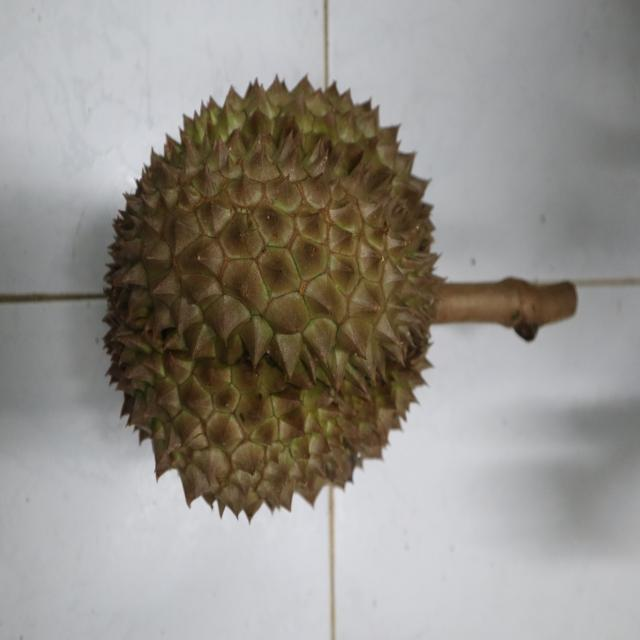mature: (99, 74, 442, 524)
